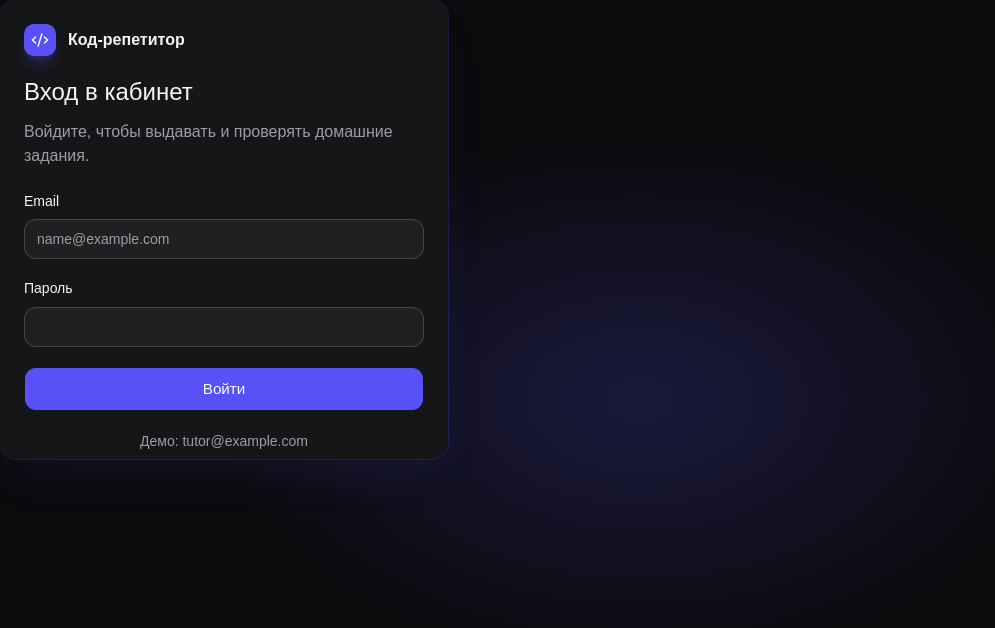
it: LoginForm › некорректный email: понятное сообщение; ошибка исчезает при исправлении
The width and height of the screenshot is (995, 628).
Type "tutor" into the field labelled "Email".
click(224, 239); type("tutor")  # box [24,219,424,259]
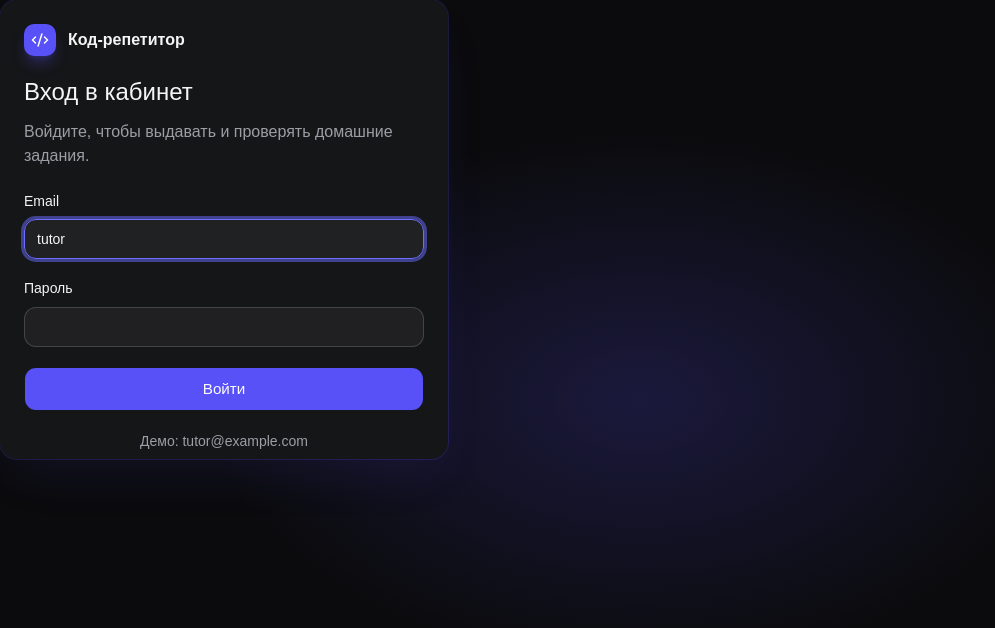
Type "secret" into the password field labelled "Пароль".
click(224, 326); type("secret")  # box [24,306,424,346]
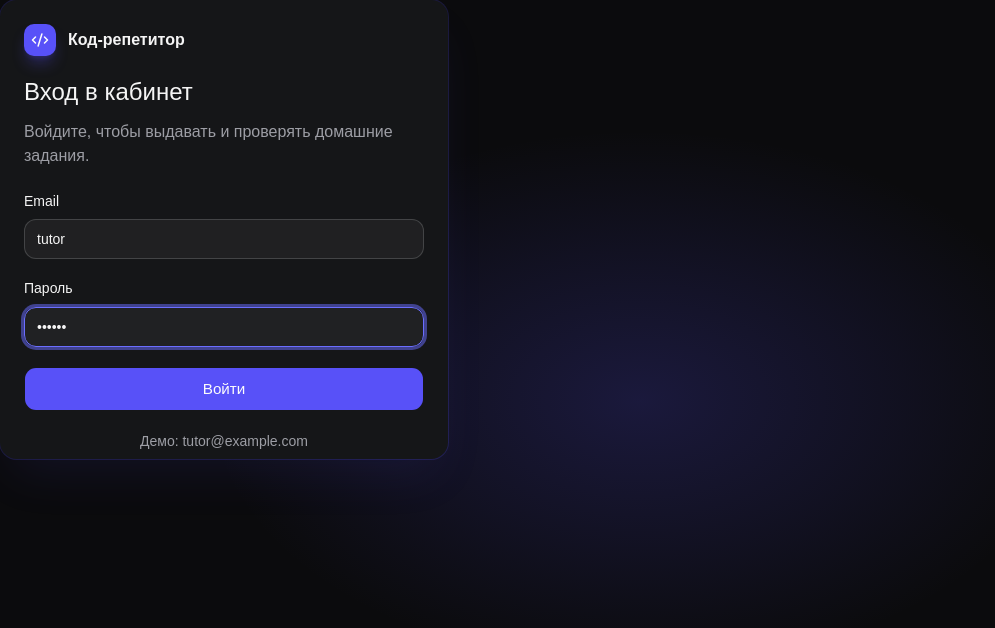
Click the button "Войти".
click(224, 388)  # box [24,366,424,410]
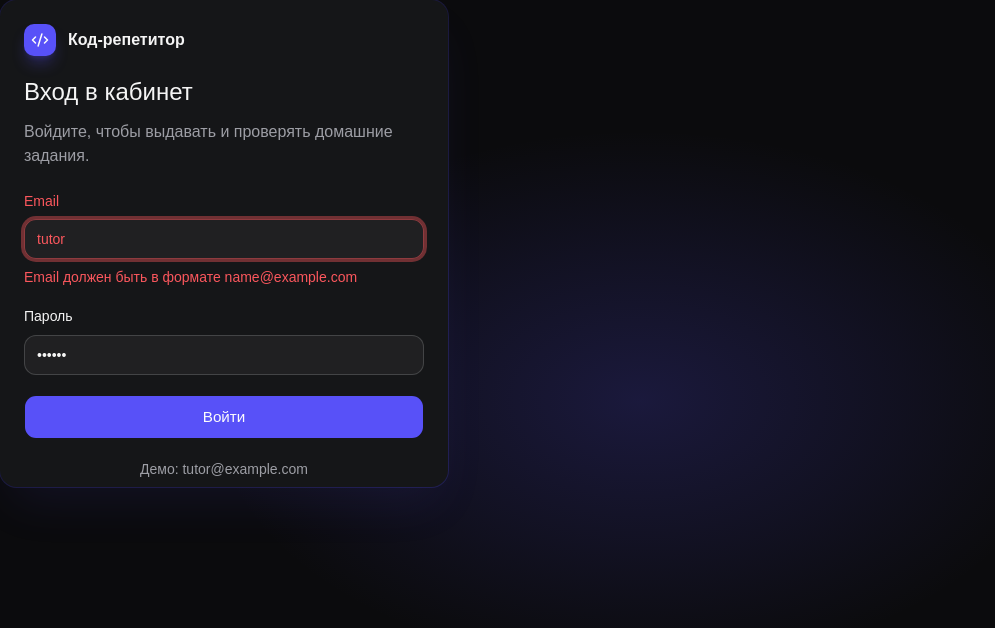
expect the text "Email должен быть в формате name@example.com" is shown: met, box [24,269,357,285]
Type "@example.com" into the field labelled "Email".
click(224, 239); type("@example.com")  # box [24,219,424,259]
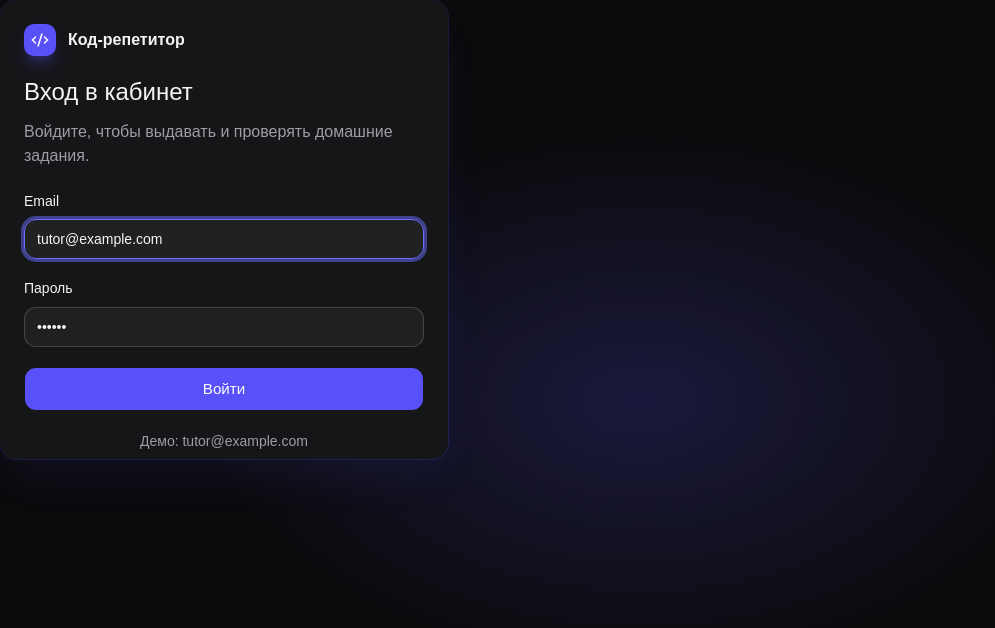
expect the text "в формате" is gone: met
